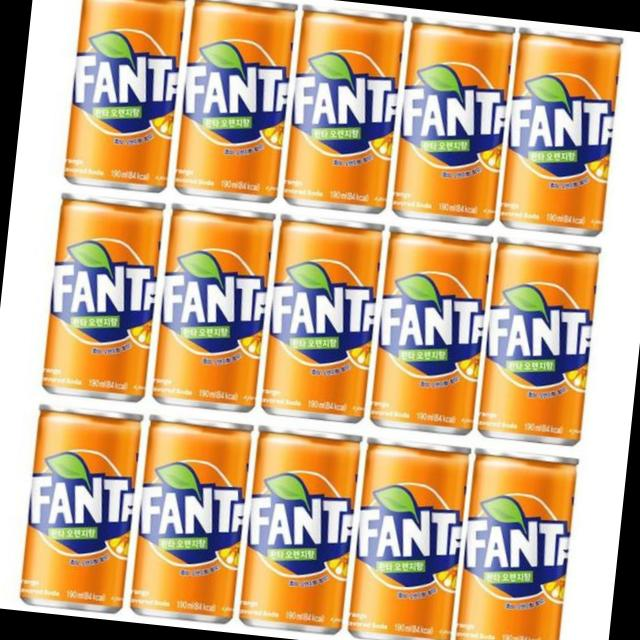fanta: (494, 23, 626, 245), (10, 402, 143, 614), (255, 207, 384, 425), (150, 199, 278, 417), (36, 189, 165, 405), (472, 237, 604, 448), (279, 5, 409, 219), (392, 18, 520, 228), (124, 414, 249, 628), (372, 225, 496, 440), (445, 446, 579, 640), (175, 0, 297, 207), (60, 0, 187, 195), (236, 432, 360, 630), (346, 436, 468, 636)
